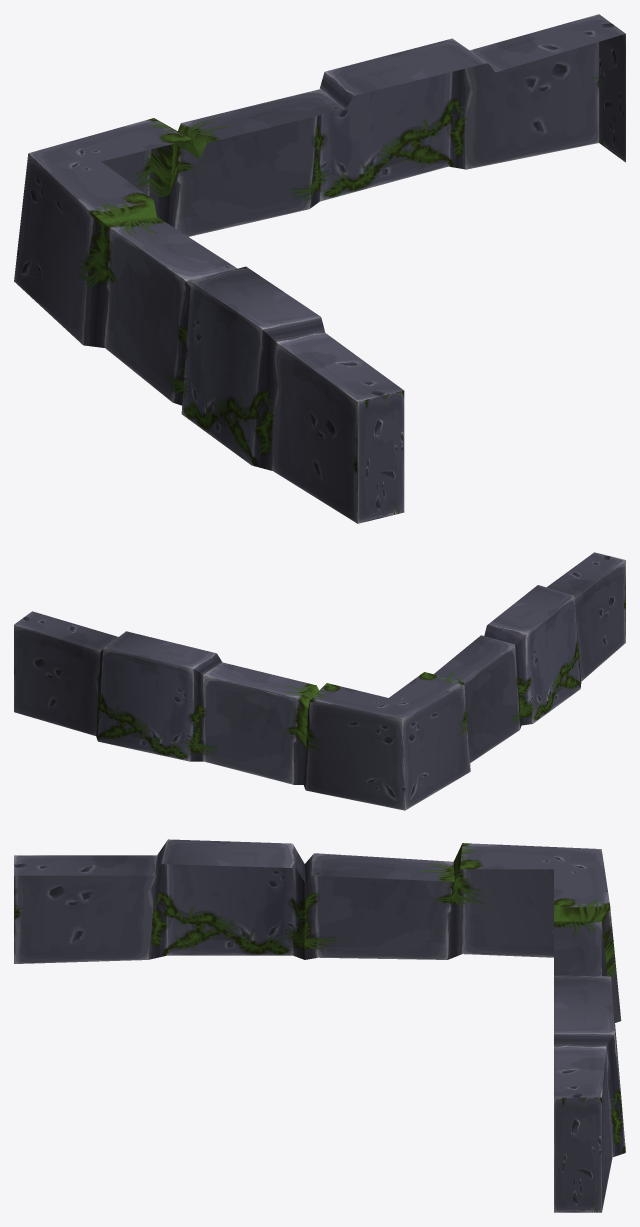
The model's file is MOD_WallTrim_01_M_corner_2_2.fbx.
3 views of the same model, one above another, from view 1: azimuth 30°, elevation 25°; view 2: azimuth 150°, elevation 25°; view 3: azimuth 270°, elevation 25° (orthographic). The views are drawn at different scales.
Parts seen in each view (by area): view 1: MOD_WallTrim_01_M_corner_2_2; view 2: MOD_WallTrim_01_M_corner_2_2; view 3: MOD_WallTrim_01_M_corner_2_2.
Part boxes in pixels (x1=…): MOD_WallTrim_01_M_corner_2_2: x1=14, y1=14, x2=625, y2=523; MOD_WallTrim_01_M_corner_2_2: x1=14, y1=552, x2=625, y2=810; MOD_WallTrim_01_M_corner_2_2: x1=14, y1=839, x2=625, y2=1212.
Size of what is drawn, in the model's own units: 255 by 55.27 by 255.
